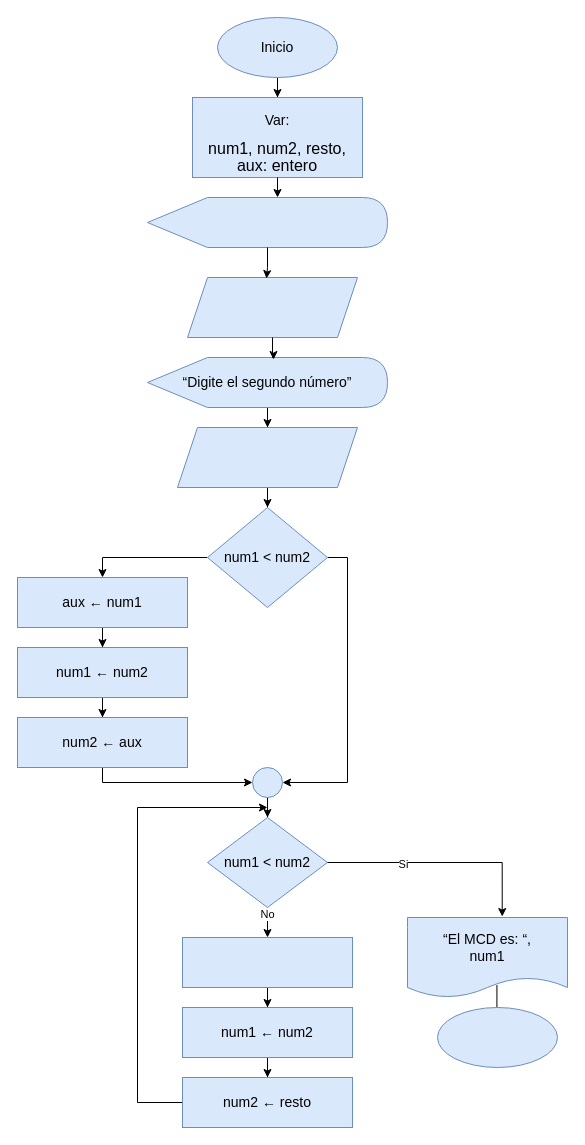
This 585x1145 diagram has some shape labels left out. Each missing label, with the centre of its shape:
"Fin" belongs at (x=497, y=1037).
"Leer num1" belongs at (x=272, y=307).
"Leer num2" belongs at (x=267, y=457).
"resto ← num1 MOD num2" belongs at (x=267, y=962).
"“Digite el primer número”" belongs at (x=267, y=222).
